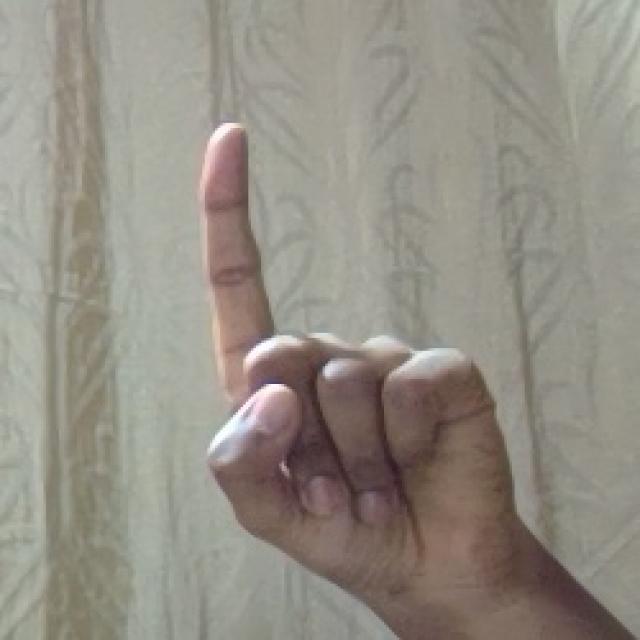Numeric-1: (195, 118, 525, 624)
